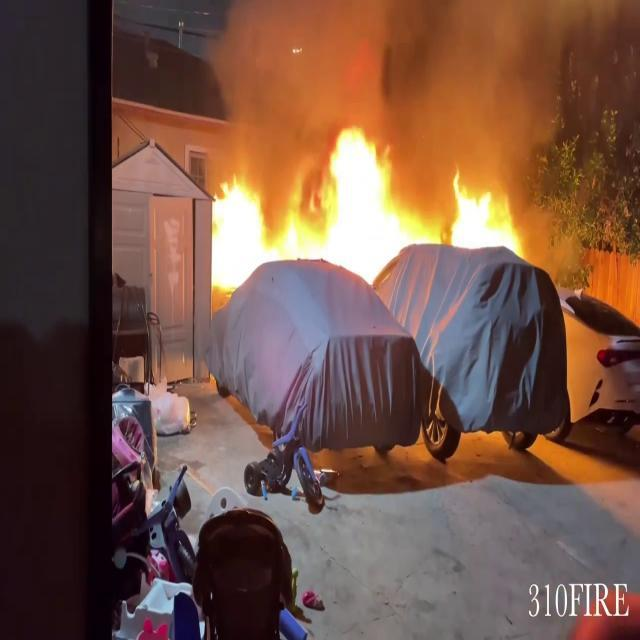Fire: (202, 118, 518, 296), (438, 170, 520, 255)
Smoke: (198, 1, 626, 152)
